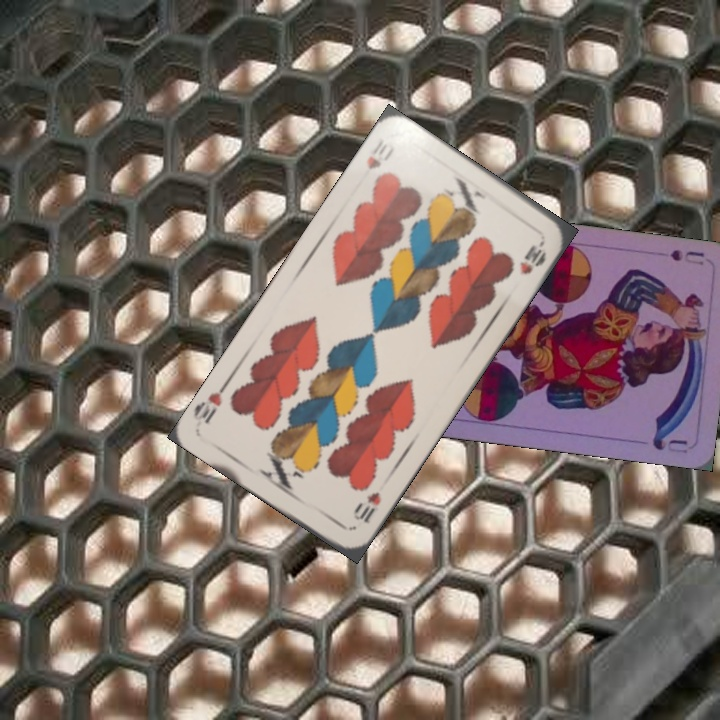H10: (348, 487, 384, 526), (362, 135, 390, 173)
SU: (666, 245, 707, 268)
